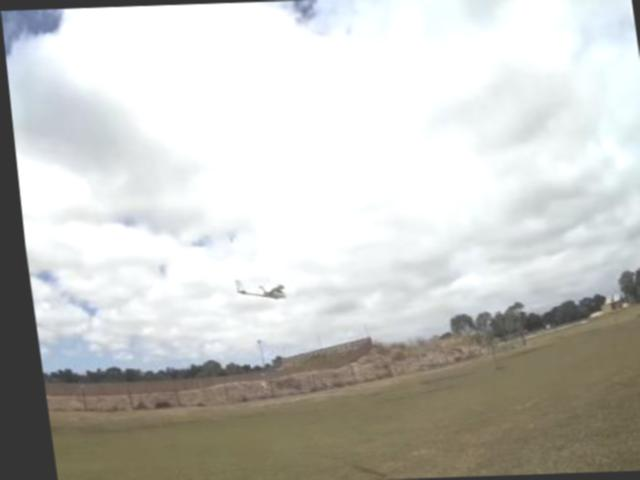uav: (223, 269, 291, 317)
